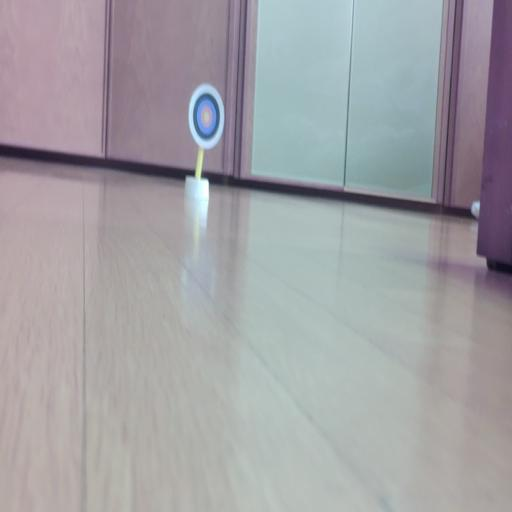target: (189, 84, 224, 150)
